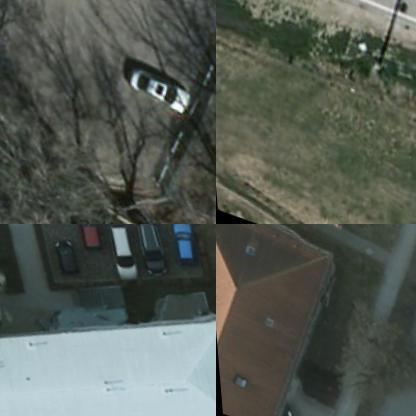car: (120, 58, 188, 108), (119, 224, 174, 277), (92, 224, 144, 278), (41, 226, 82, 274), (158, 224, 200, 260)
